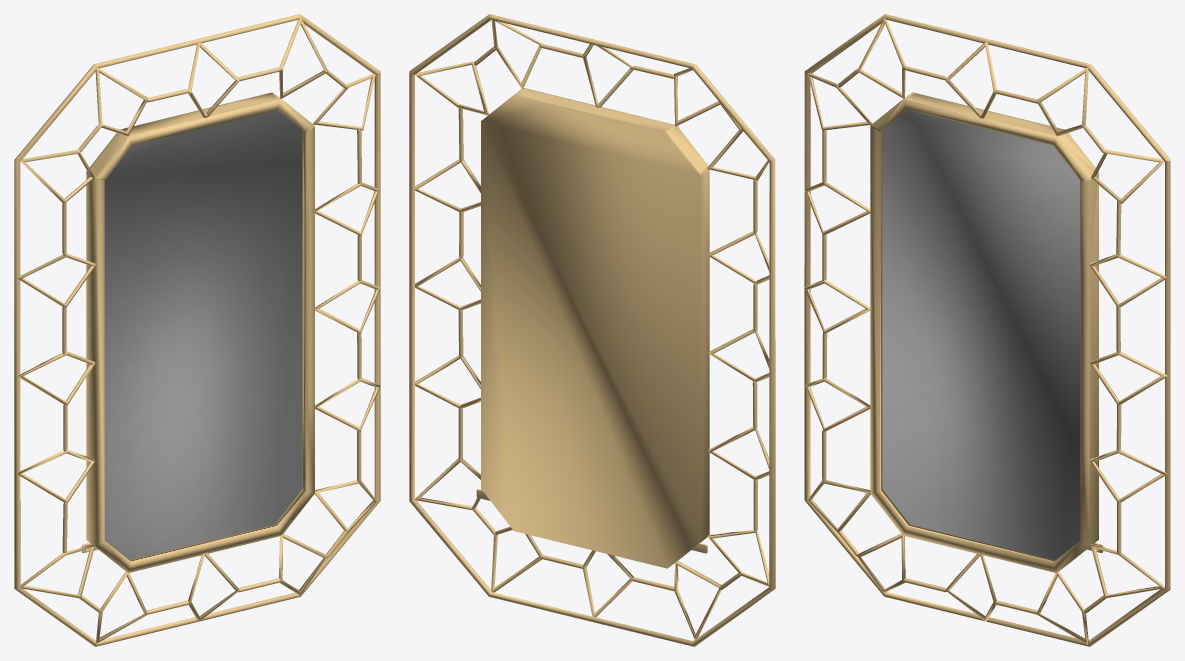
File: B073WHB42L.glb
The picture shows the model from 3 angles, left to right: view 1: azimuth 30°, elevation 25°; view 2: azimuth 150°, elevation 25°; view 3: azimuth 330°, elevation 25°; orthographic projection.
Visible parts, largest first — view 1: RootNode; view 2: RootNode; view 3: RootNode.
Part boxes in pixels (<box>): RootNode: <box>14,14,380,646</box>; RootNode: <box>409,14,775,646</box>; RootNode: <box>804,14,1170,646</box>.
Bounding box in the file's own units: 0.5721 × 0.8699 × 0.051.
Materials: 1 (1 with a texture image).
